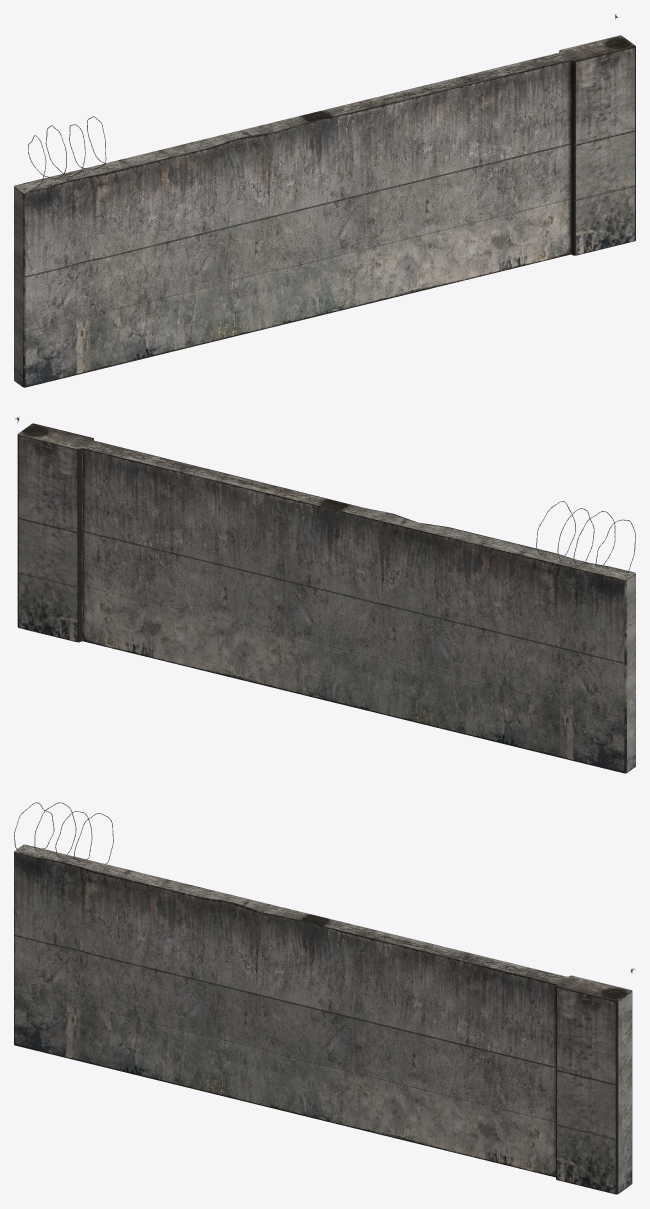
The model's file is barrier.glb.
3 renders of one model, top to bottom at view 1: azimuth 30°, elevation 25°; view 2: azimuth 150°, elevation 25°; view 3: azimuth 330°, elevation 25°, orthographic.
Parts seen in each view (by area): view 1: 01_01_0, 01_02_0; view 2: 01_01_0, 01_02_0; view 3: 01_01_0, 01_02_0.
Part boxes in pixels (x1,y1,x2,y2): 01_01_0: [14, 35, 635, 387]; 01_02_0: [28, 14, 618, 191]; 01_01_0: [17, 423, 635, 773]; 01_02_0: [15, 417, 635, 571]; 01_01_0: [14, 844, 632, 1194]; 01_02_0: [14, 802, 635, 973].
Size of the model in its own units: 13.15 by 5.1 by 1.15.
Materials: 2 (2 with a texture image).
